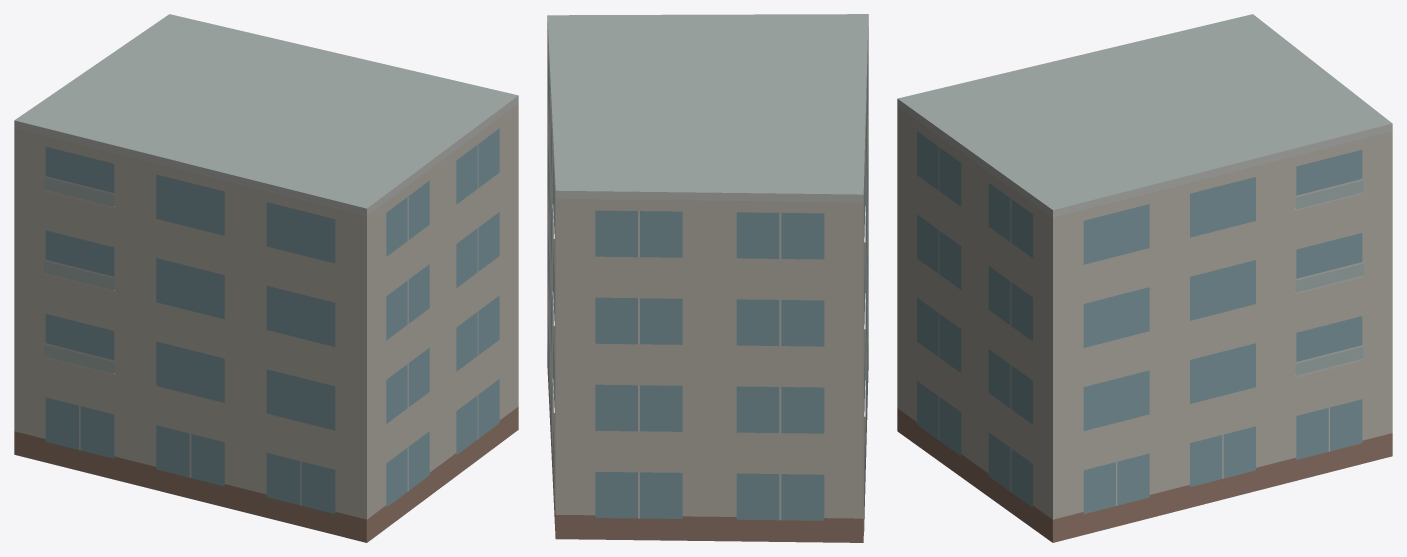
The model's file is survey-upis-32915665.glb.
The picture shows the model from 3 angles, left to right: view 1: azimuth 30°, elevation 25°; view 2: azimuth 150°, elevation 25°; view 3: azimuth 270°, elevation 25°; orthographic projection. The views are drawn at different scales.
Parts seen in each view (by area): view 1: survey-upis-32915665.tmp; view 2: survey-upis-32915665.tmp; view 3: survey-upis-32915665.tmp.
Boxes of the visible parts, x1,y1,x2,y2 form: survey-upis-32915665.tmp: [14, 14, 518, 542]; survey-upis-32915665.tmp: [547, 14, 868, 542]; survey-upis-32915665.tmp: [897, 14, 1392, 542].
Bounding box in the file's own units: 13.54 × 10.7 × 14.44.
